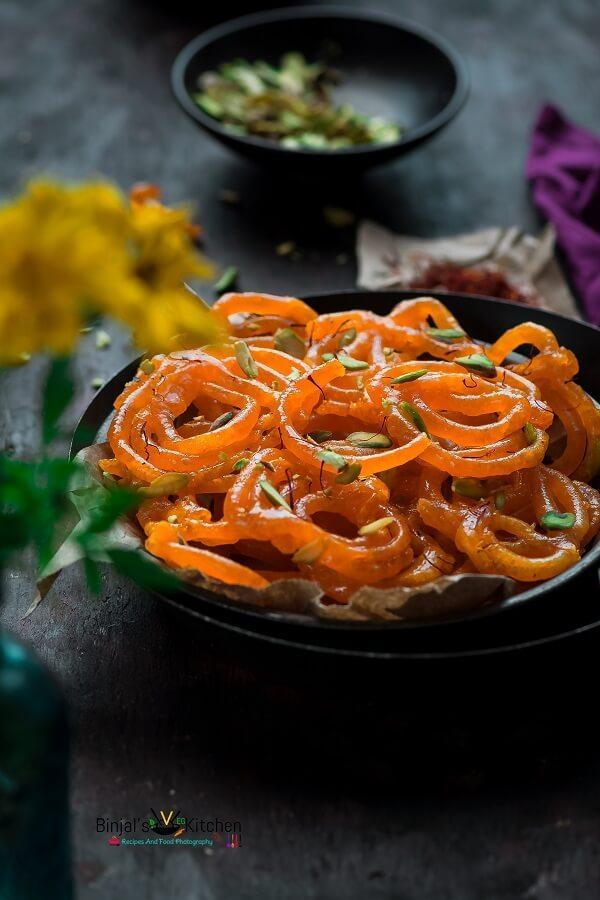jalebi: (98, 281, 600, 617)
